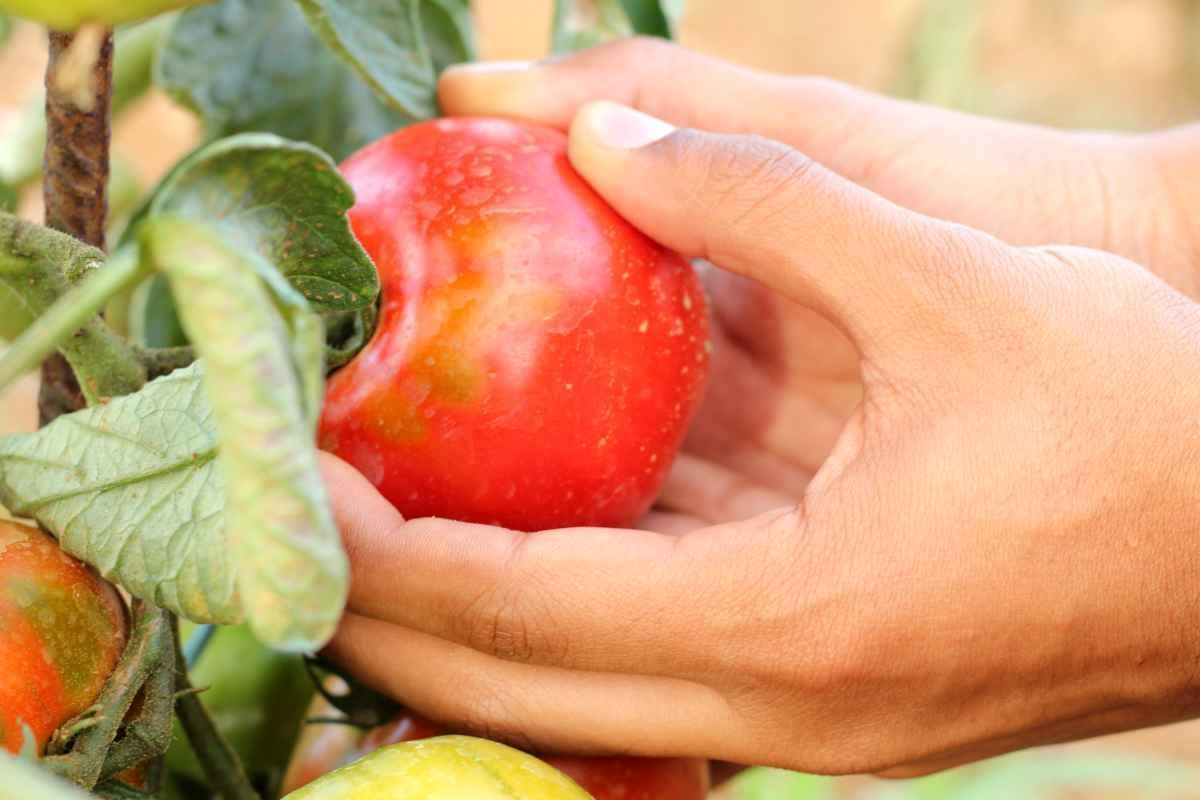healthy-tomato: (316, 117, 713, 536)
